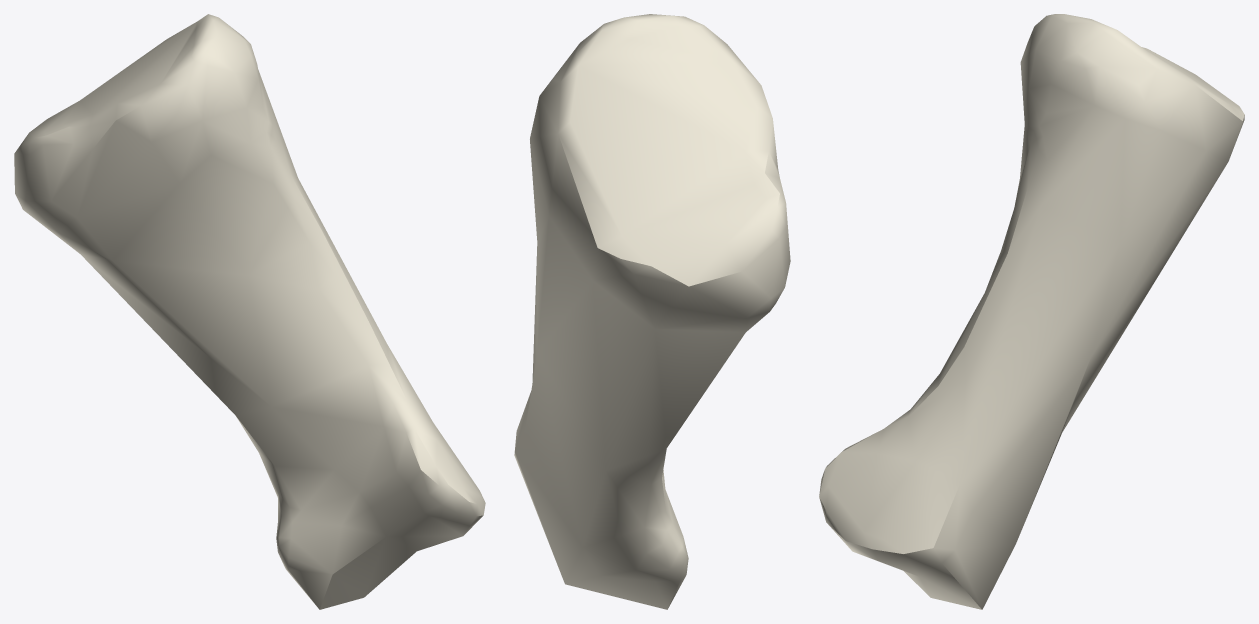
Rendered from fma65470_fj3318.glb.
3 views of the same model, side by side, from view 1: azimuth 30°, elevation 25°; view 2: azimuth 150°, elevation 25°; view 3: azimuth 270°, elevation 25° (orthographic). The views are drawn at different scales.
Parts seen in each view (by area): view 1: FMA65470_FJ3318; view 2: FMA65470_FJ3318; view 3: FMA65470_FJ3318.
Boxes of the visible parts, bbox=[...] form: FMA65470_FJ3318: bbox=[14, 14, 485, 609]; FMA65470_FJ3318: bbox=[514, 14, 790, 609]; FMA65470_FJ3318: bbox=[819, 14, 1244, 609].
Bounding box in the file's own units: 0.0199 × 0.0316 × 0.0221.
